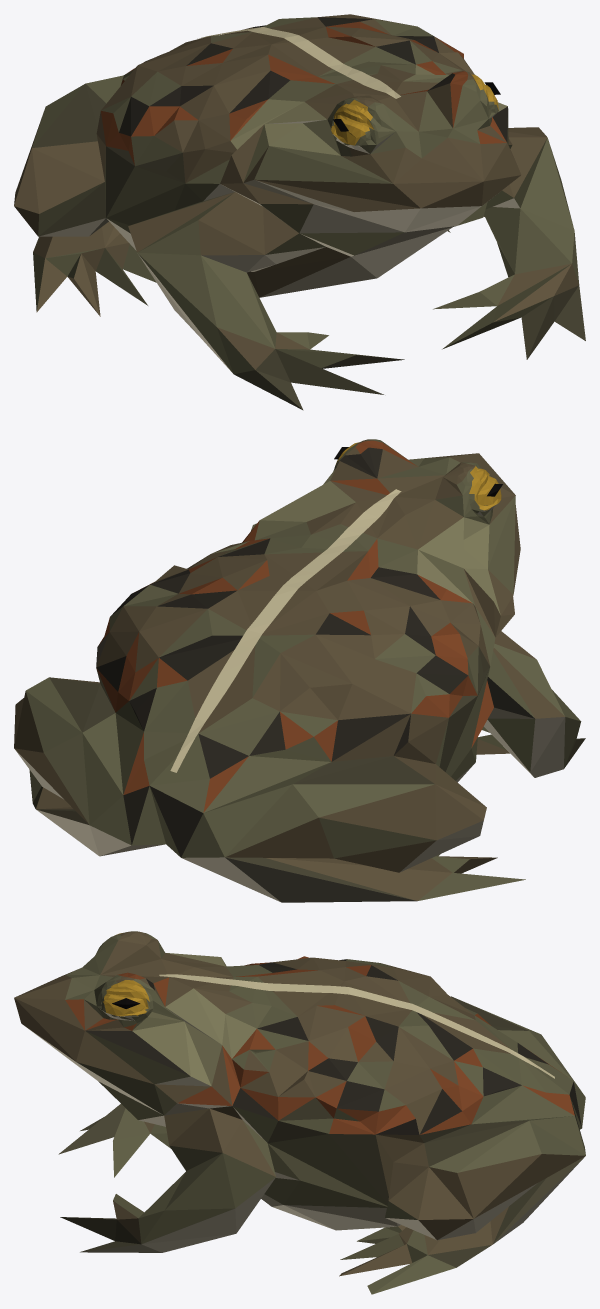
File: western_toad.glb
3 views of the same model, one above another, from view 1: azimuth 30°, elevation 25°; view 2: azimuth 150°, elevation 25°; view 3: azimuth 270°, elevation 25° (orthographic). The views are drawn at different scales.
Parts seen in each view (by area): view 1: lod0; view 2: lod0; view 3: lod0.
Part boxes in pixels (x1,y1,x2,y2): lod0: (14, 14, 585, 410); lod0: (14, 439, 585, 902); lod0: (14, 931, 585, 1294).
Size of what is drawn, in the model's own units: 0.0891 by 0.0467 by 0.1014.
